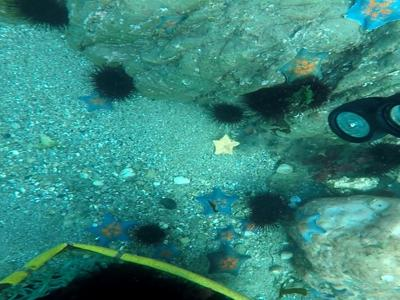urchin: (89, 61, 137, 105), (246, 88, 291, 125), (245, 193, 290, 229), (297, 75, 336, 114), (15, 3, 72, 28), (368, 143, 396, 176), (215, 101, 244, 125), (132, 224, 163, 243)
